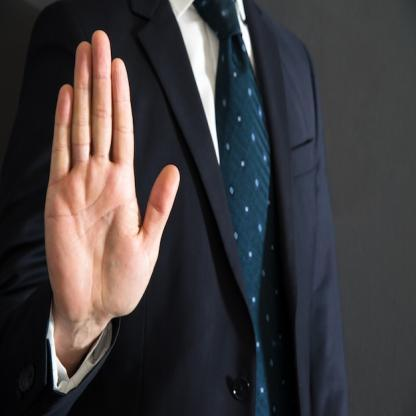stop: (43, 29, 182, 330)
